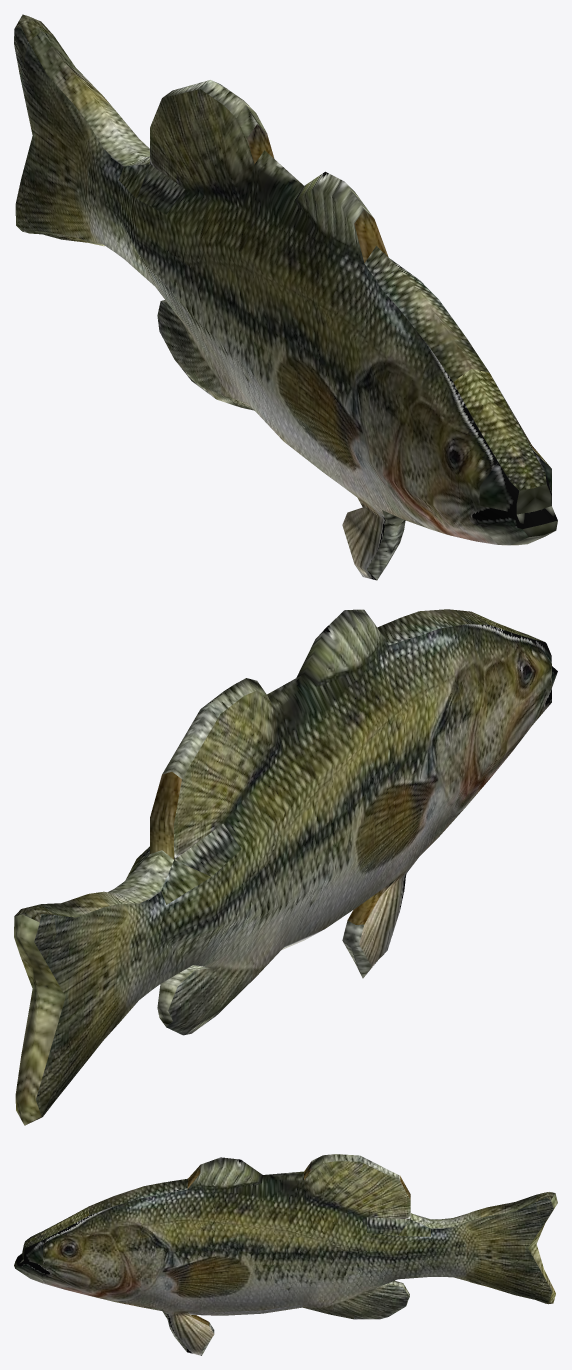
Rendered from Fish Bass.fbx.
3 renders of one model, top to bottom at view 1: azimuth 30°, elevation 25°; view 2: azimuth 150°, elevation 25°; view 3: azimuth 270°, elevation 25°, orthographic. The views are drawn at different scales.
Parts seen in each view (by area): view 1: Fish - Bass; view 2: Fish - Bass; view 3: Fish - Bass.
Part boxes in pixels (left/top/right/bottom): Fish - Bass: left=14, top=14, right=557, bottom=580; Fish - Bass: left=14, top=609, right=557, bottom=1125; Fish - Bass: left=14, top=1154, right=557, bottom=1355.
Size of the model in its own units: 42.99 by 198 by 485.
Materials: 1 (1 with a texture image).
